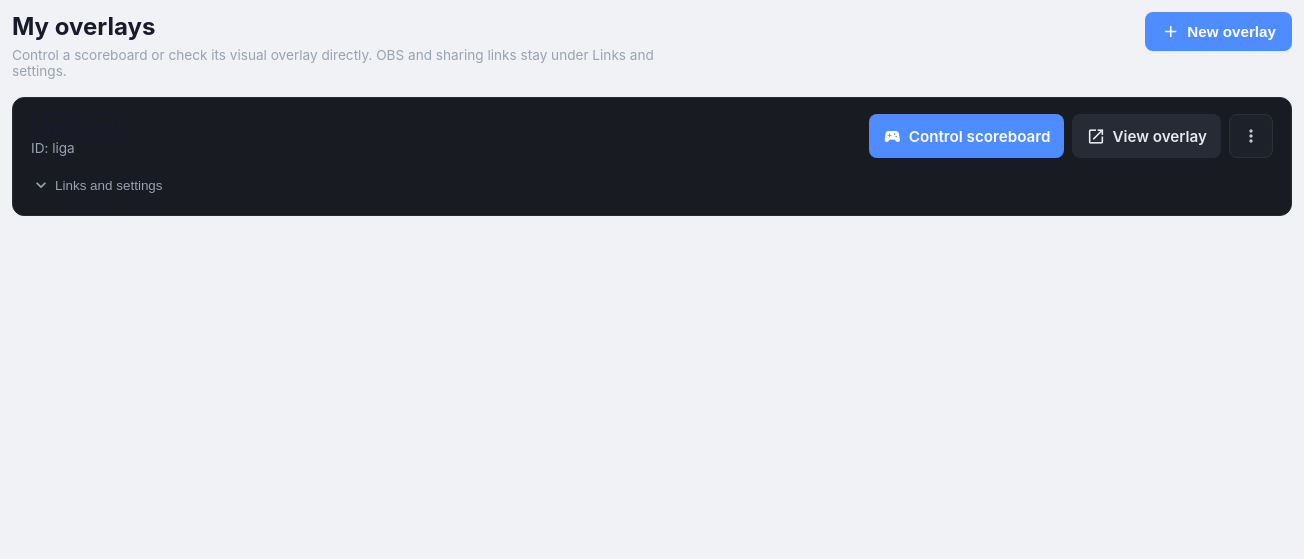
it: OverlaysPage flows › ignores an overlapping older refresh that resolves last
The image size is (1304, 559).
Step 1. Click the button "Links and settings" → (99, 185), box 31,166 -> 167,204
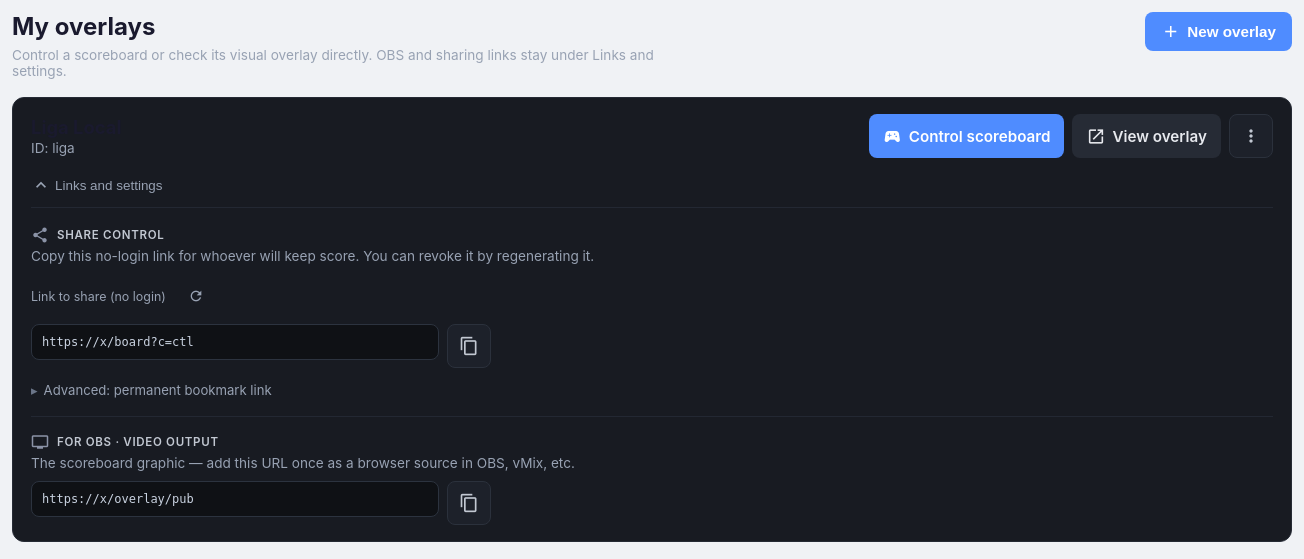
Step 2. Click the button named "more actions" → (1251, 136), box 1229,114 -> 1273,158
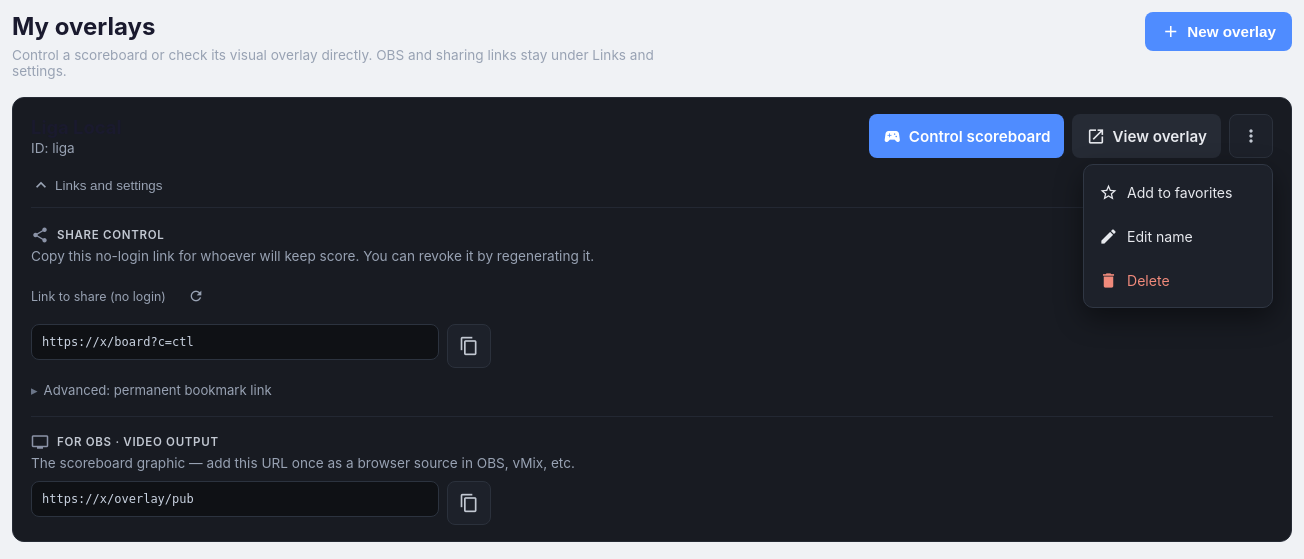
Step 3. Click the button "Add to favorites" → (1178, 192), box 1089,170 -> 1267,214
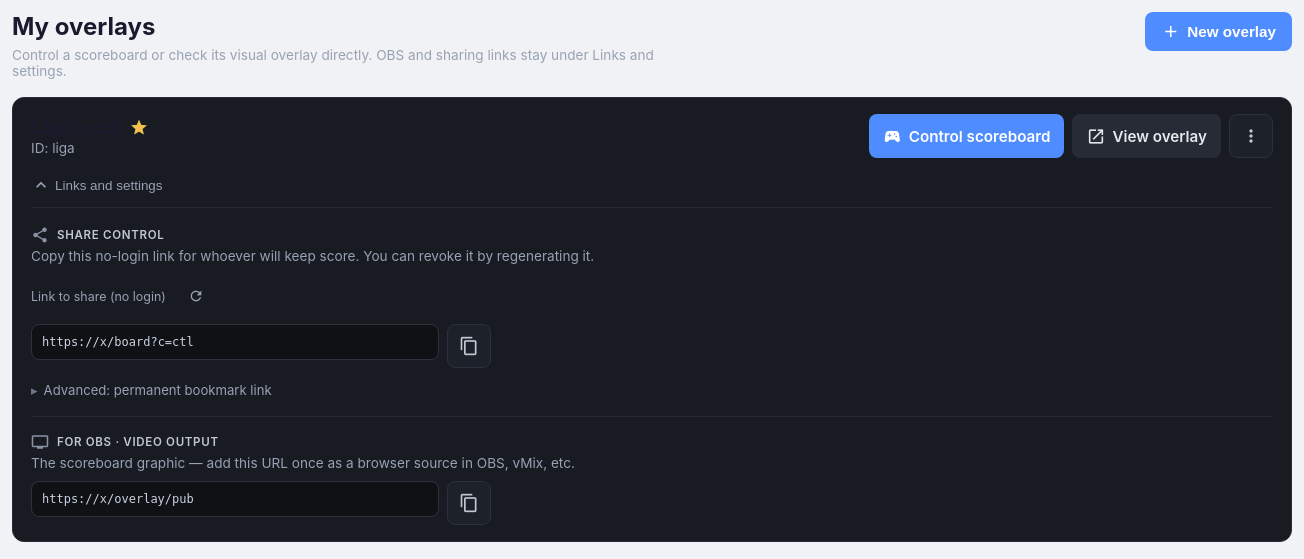
Step 4. Click the button named "regenerate" → (196, 296), box 174,274 -> 218,318
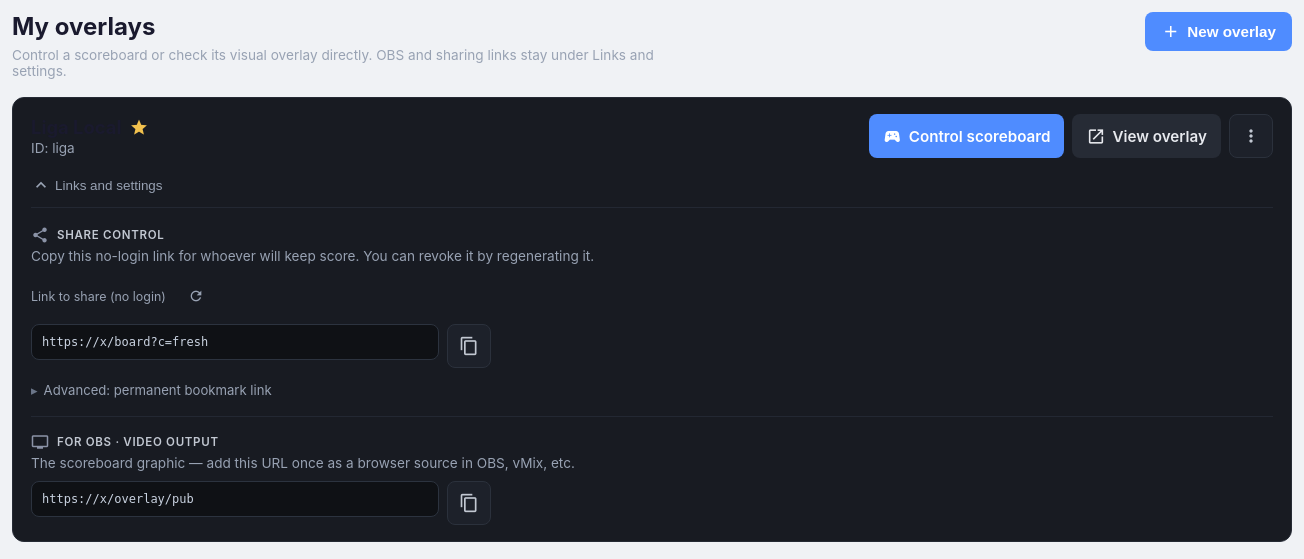
Expected: the field "https://x/board?c=fresh" is shown, 31,324 -> 439,360
Expected: the field "https://x/board?c=ctl" is gone
